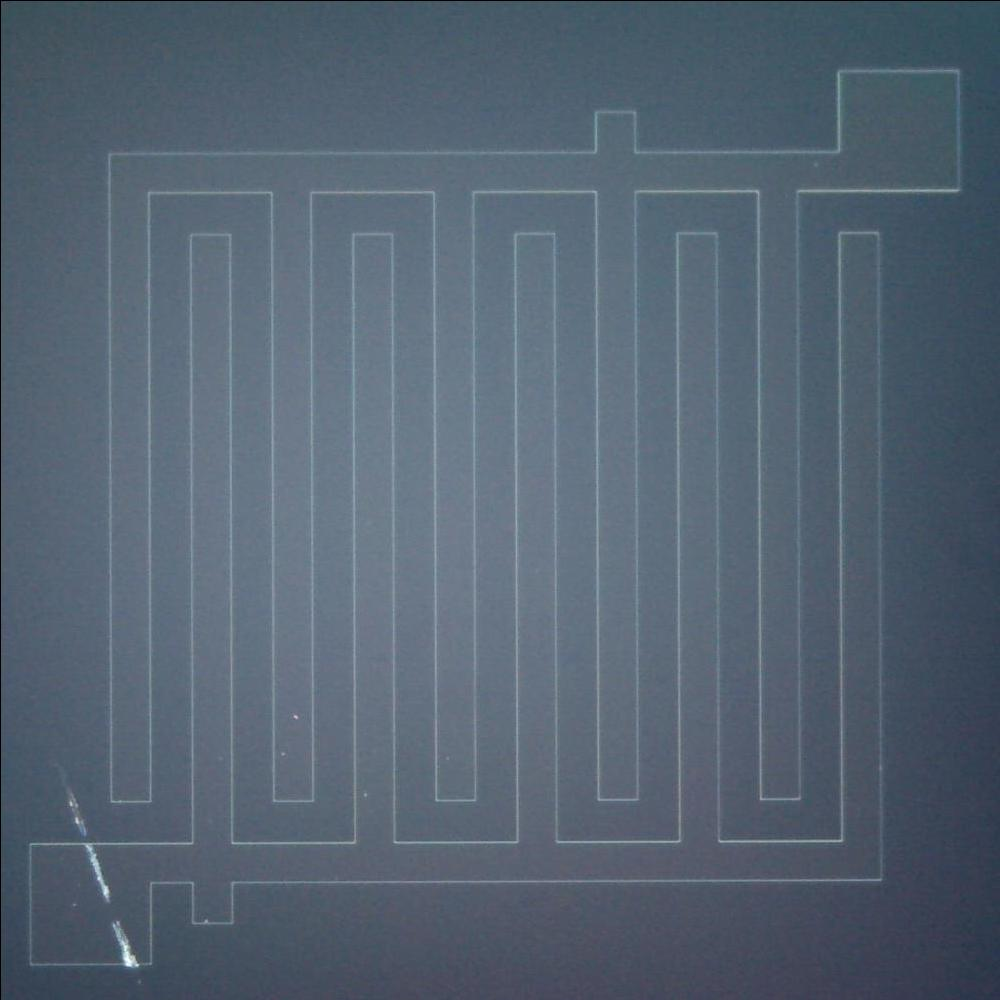budge circuit: (579, 102, 653, 162), (180, 869, 244, 930)
dot: (286, 706, 306, 727)
scratch: (62, 779, 115, 907), (110, 919, 138, 966)
